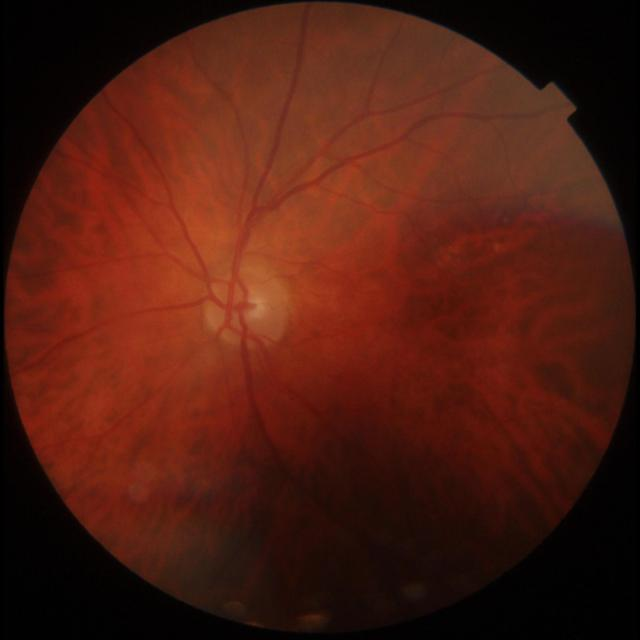OC: (244, 295, 268, 320)
OD: (202, 264, 289, 351)
